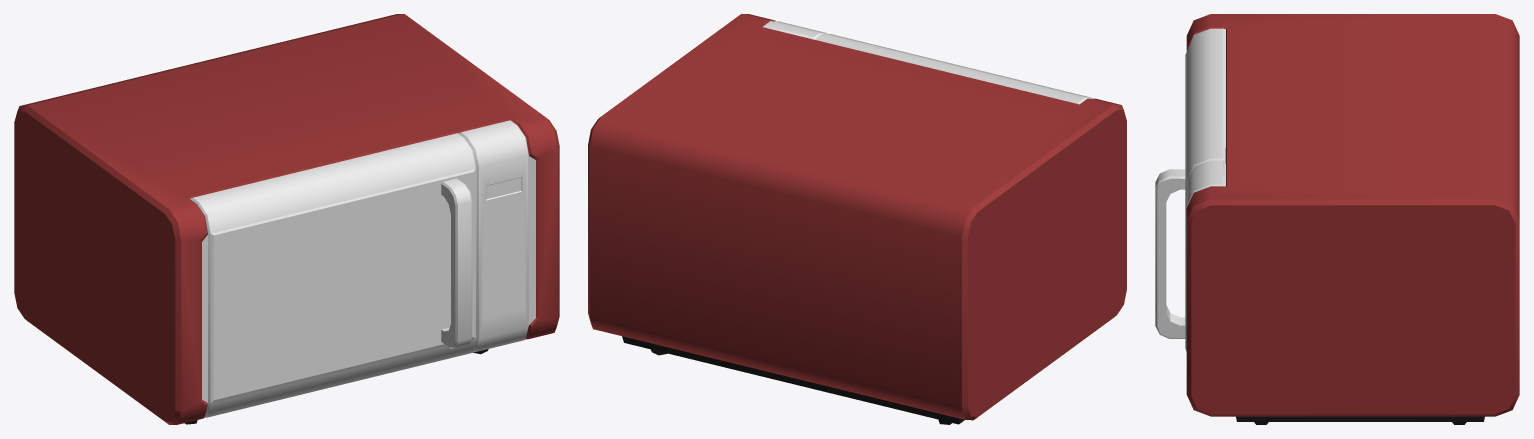
3 renders of one model, left to right at view 1: azimuth 30°, elevation 25°; view 2: azimuth 150°, elevation 25°; view 3: azimuth 270°, elevation 25°, orthographic.
Visible parts, largest first — view 1: EG823LC4NR; view 2: EG823LC4NR; view 3: EG823LC4NR.
Boxes of the visible parts, x1,y1,x2,y2 form: EG823LC4NR: (14, 14, 559, 424); EG823LC4NR: (588, 14, 1126, 424); EG823LC4NR: (1155, 14, 1519, 424).
Size of the model in its own units: 48.5 by 39.5 by 29.1.
